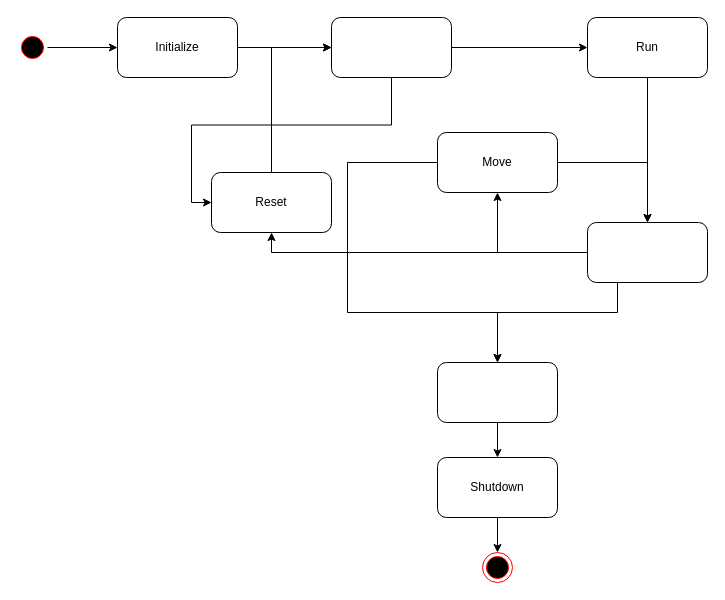
Some shapes in this 725 by 600 pixel diagram are drawn without their labels. Each missing label, with the box of its shape:
Brake: (586, 222, 708, 282)
Prepare: (330, 16, 452, 78)
Vent: (436, 362, 558, 422)
